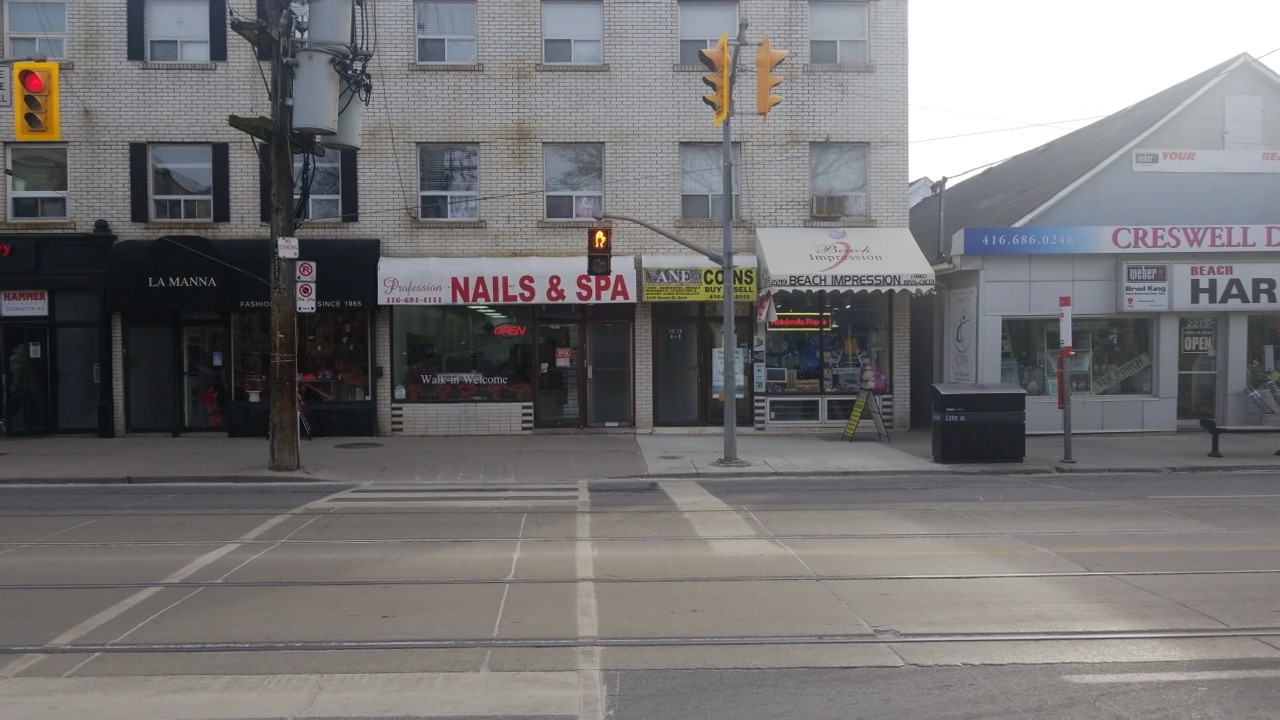light: (585, 226, 613, 276)
